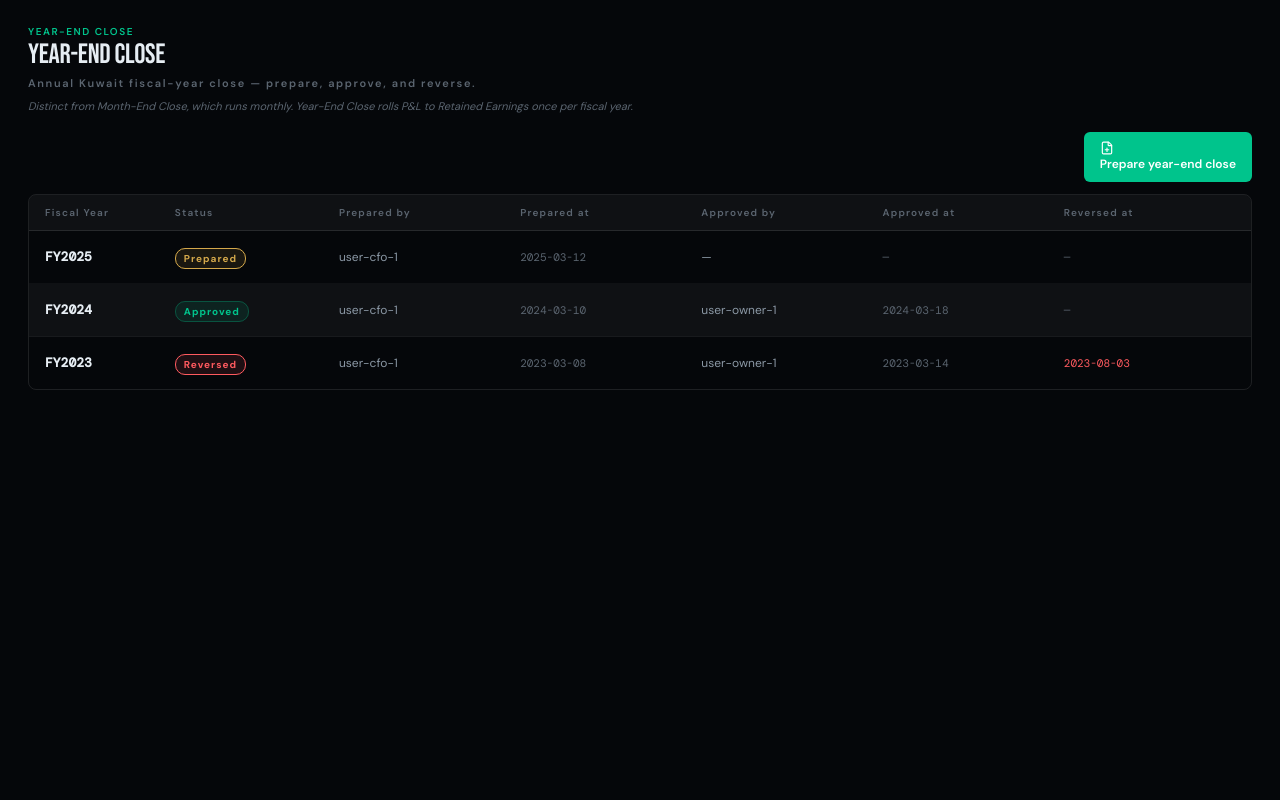
Scenario: YearEndCloseScreen — detail view › APPROVED detail: CFO cannot reverse (button disabled)
Click the button with aria-label "Open fiscal-year detail".
click(76, 310)  # box [29, 284, 1251, 337]
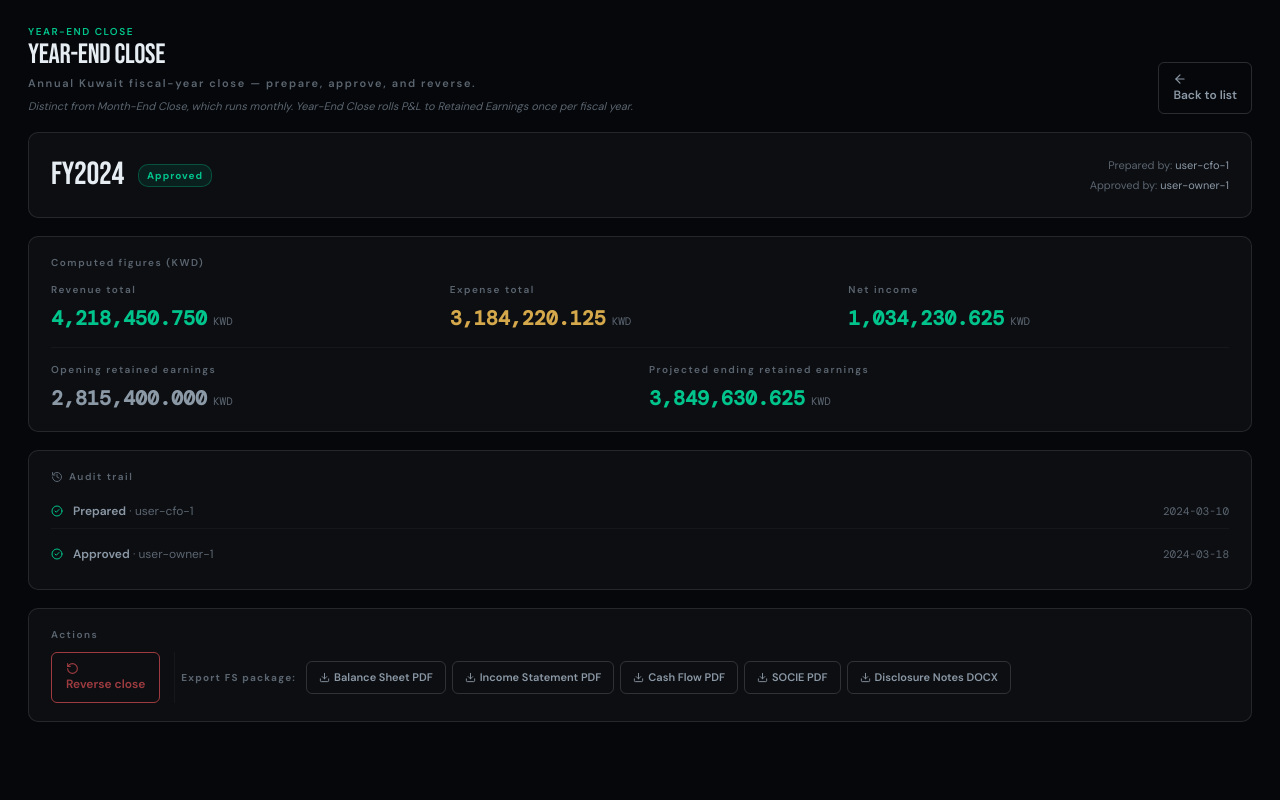
Expected: the element with test id "yec-detail-view" is shown
Expected: the button with test id "yec-action-reverse" is disabled, [51, 652, 160, 703]
